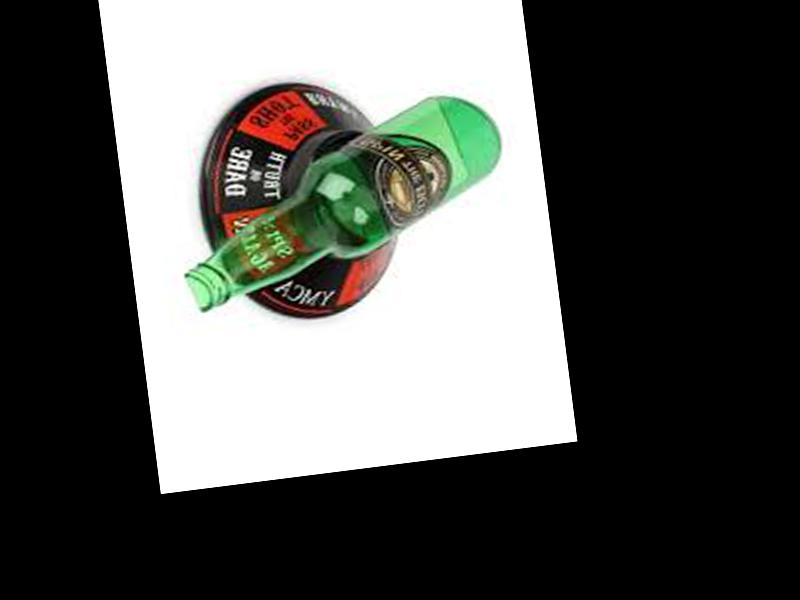Beer: (165, 87, 516, 311)
